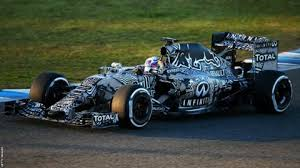FormulaOneCar: (14, 28, 294, 131)
